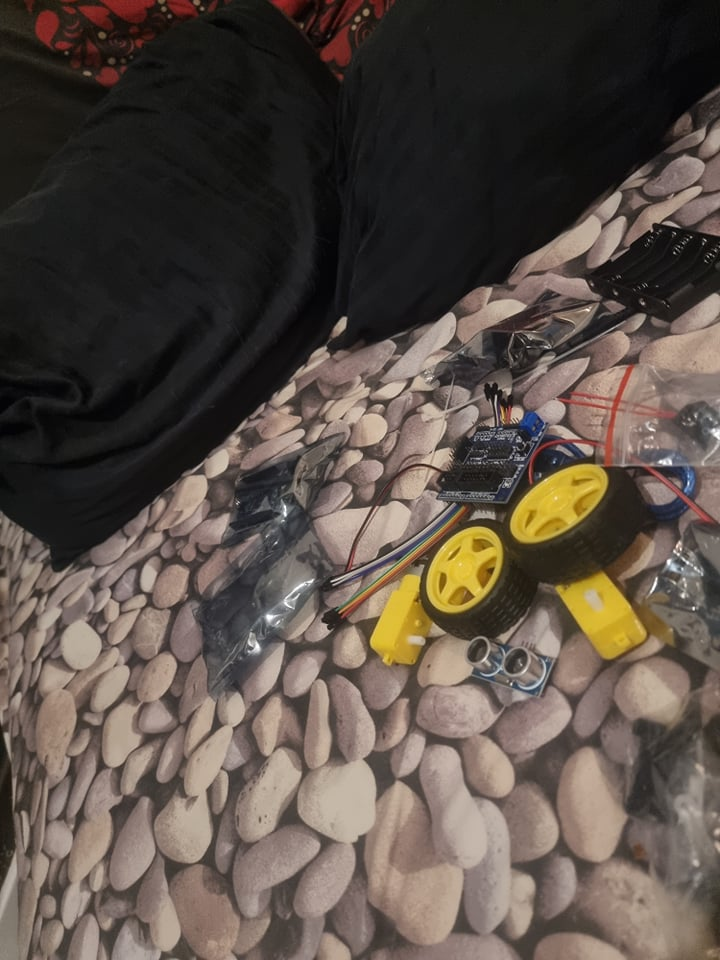5V EXPANSION: (435, 412, 548, 505)
BATTERY BOX: (586, 213, 720, 323)
SENSOR: (464, 636, 556, 692)
